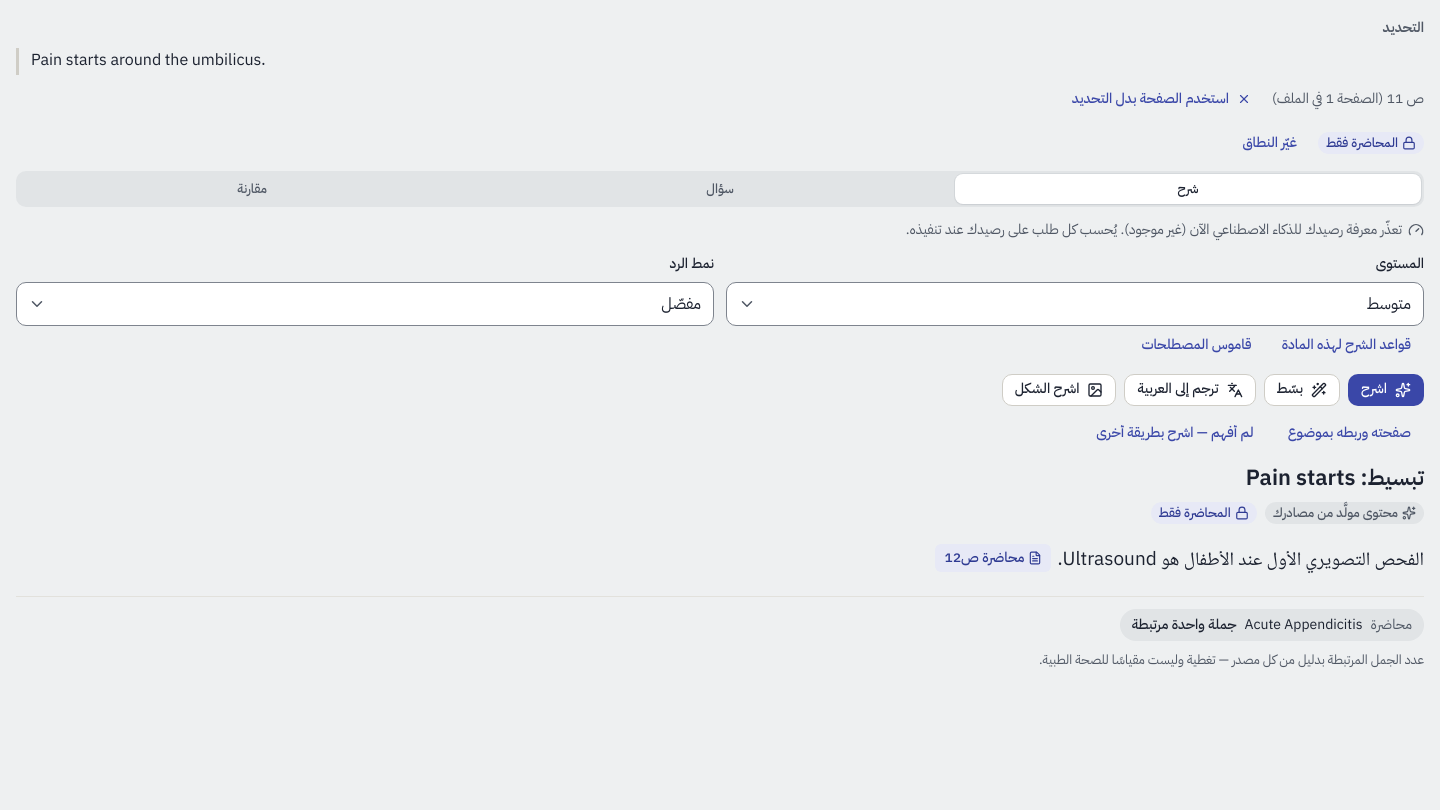
Test case: ExplainTab › Explain Until Understood re-teaches the explanation’s own passage and action, not whatever is selected now
Expected: the heading "تبسيط: Pain starts" is shown, [1246,461,1424,494]
// the owner drops the selection (the tab now targets the current page) and asks for another way
Click the button "استخدم الصفحة بدل التحديد": (1161,99) [1059,83,1264,115]
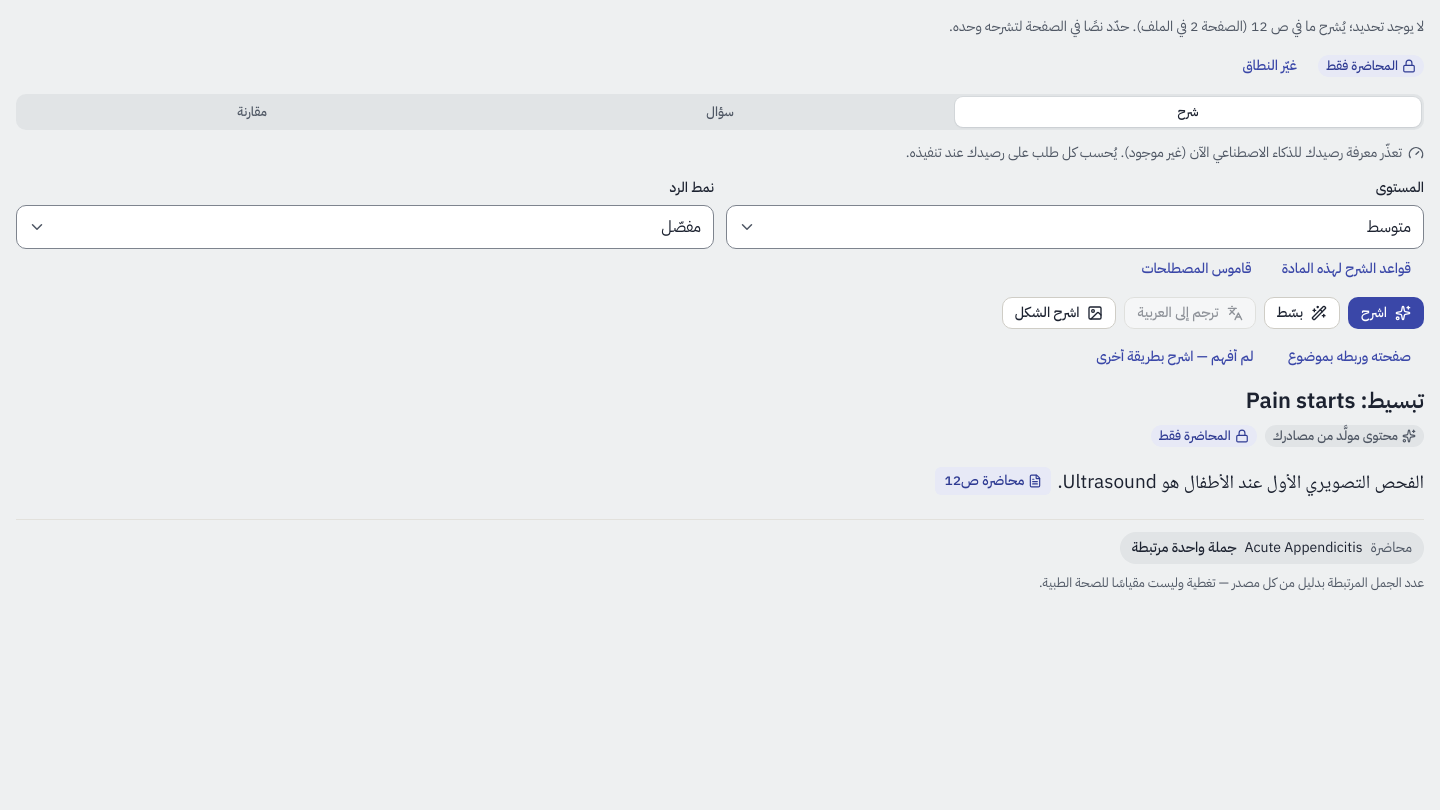
Click the button "لم أفهم — اشرح بطريقة أخرى": (1175,357) [1083,341,1267,373]
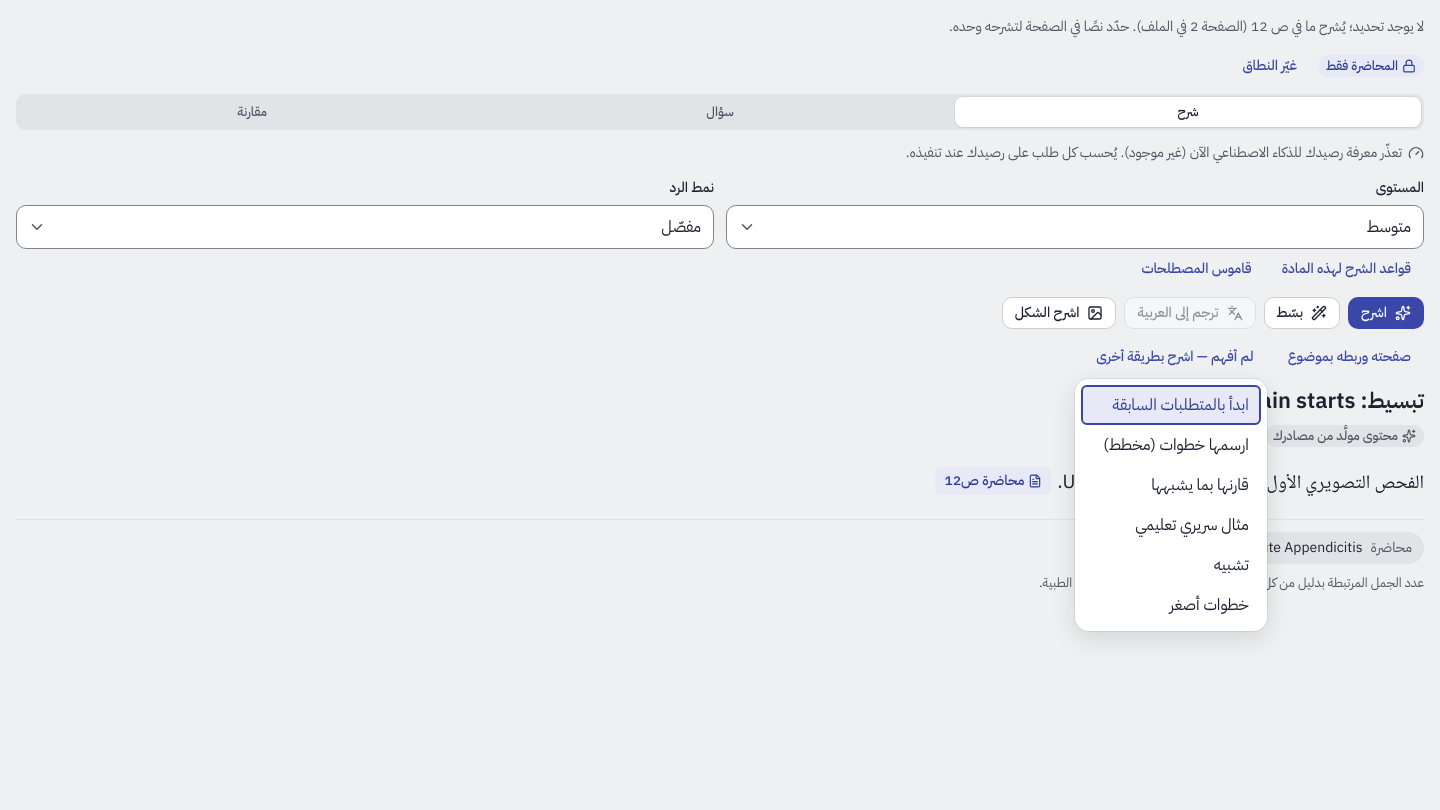
Click the menu item "تشبيه": (1231,565) [1214,553,1249,577]
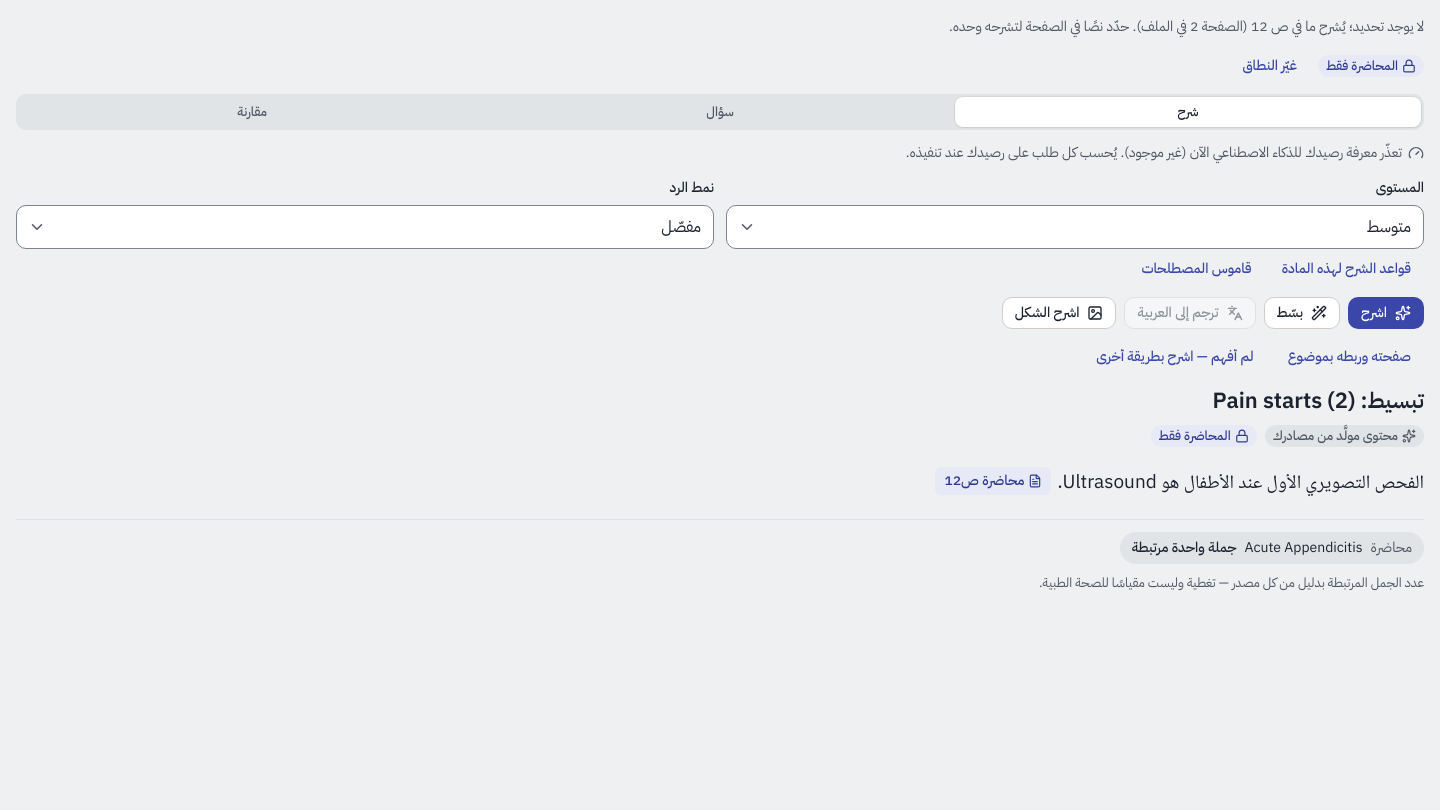
Expected: the heading "تبسيط: Pain starts (2)" is shown, [1213,384,1424,417]
